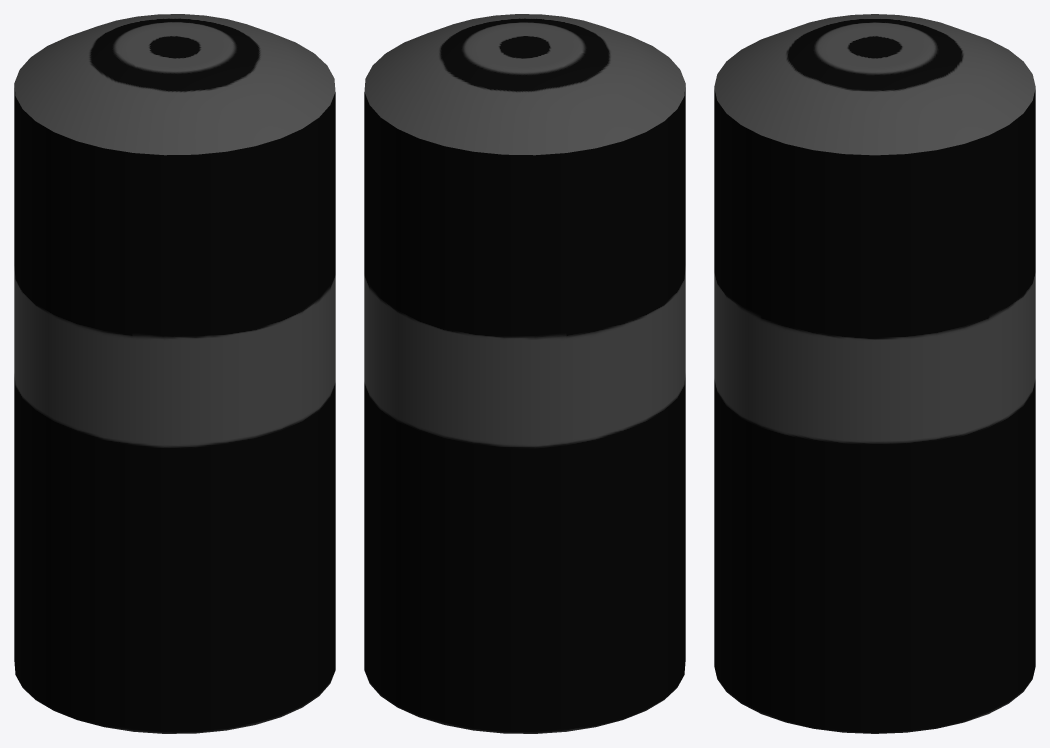
Rendered from tartaly v2.fbx.
3 renders of one model, left to right at view 1: azimuth 30°, elevation 25°; view 2: azimuth 150°, elevation 25°; view 3: azimuth 270°, elevation 25°, orthographic.
Visible parts, largest first — view 1: Üzemanyag tartály; view 2: Üzemanyag tartály; view 3: Üzemanyag tartály.
Part boxes in pixels (x1,y1,x2,y2): Üzemanyag tartály: [14, 14, 335, 733]; Üzemanyag tartály: [364, 14, 685, 733]; Üzemanyag tartály: [714, 14, 1035, 733].
Size of the model in its own units: 250 by 530 by 250.
Materials: 1 (1 with a texture image).
